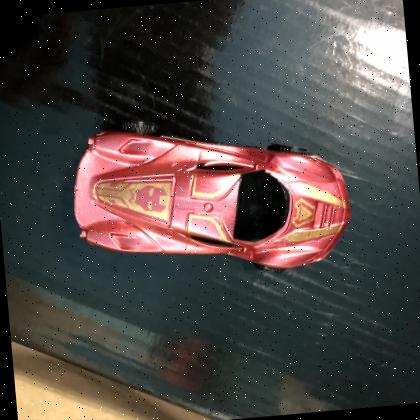Car: (64, 100, 358, 292)
